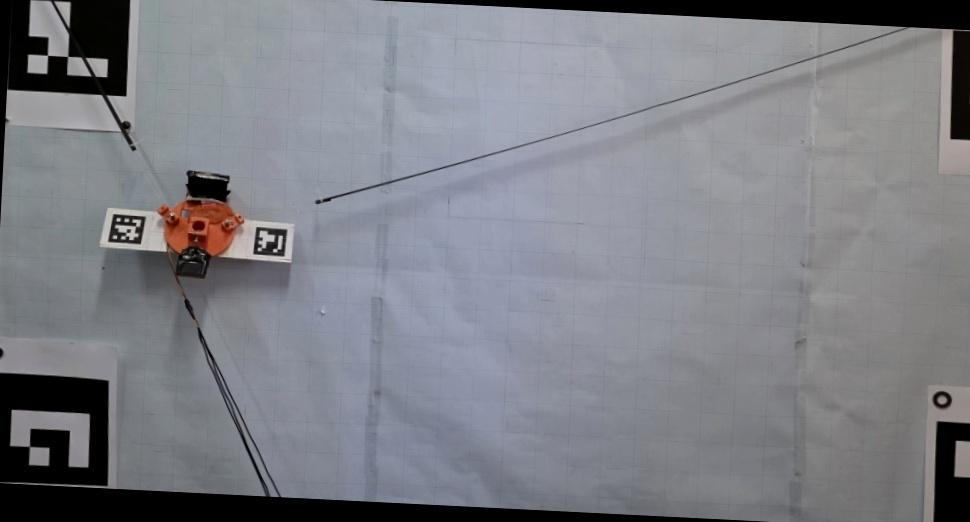robot: (157, 169, 246, 280)
